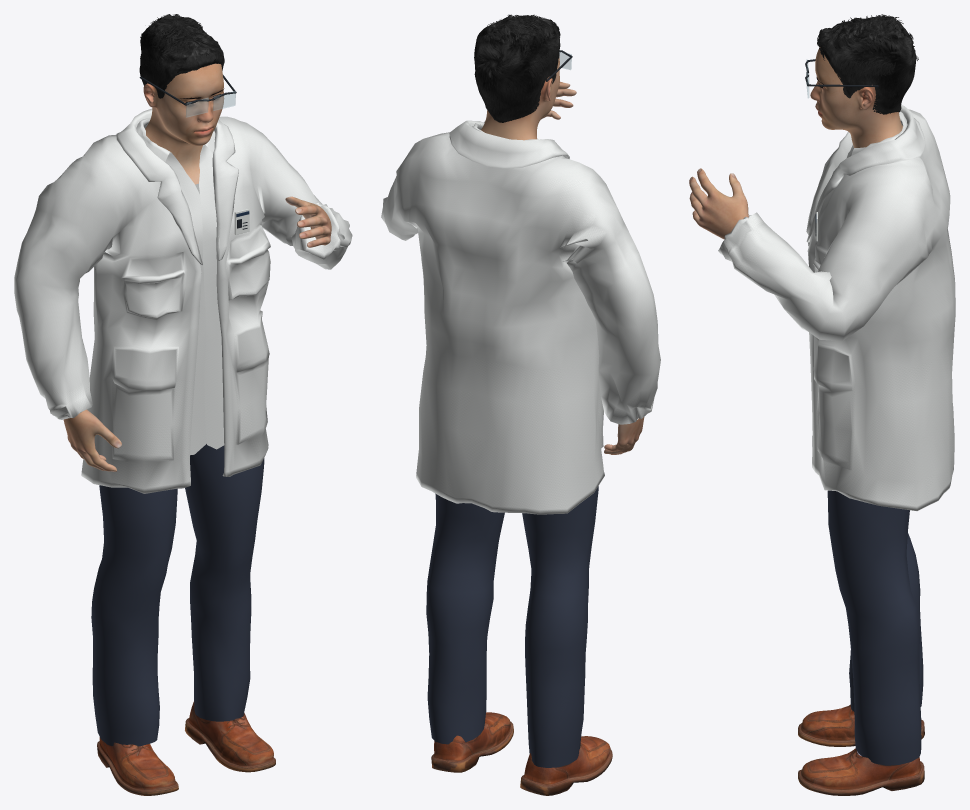
File: professional-lab-researcher.glb
3 renders of one model, left to right at view 1: azimuth 30°, elevation 25°; view 2: azimuth 150°, elevation 25°; view 3: azimuth 270°, elevation 25°, orthographic.
Visible parts, largest first — view 1: male_casualsuit05, Sam | anatomical body, shoes01, short01; view 2: male_casualsuit05, short01, shoes01, Sam | anatomical body; view 3: male_casualsuit05, short01, Sam | anatomical body, shoes01.
Boxes of the visible parts, <box> form: male_casualsuit05: <box>14,108,352,746</box>; Sam | anatomical body: <box>63,63,331,471</box>; shoes01: <box>97,701,275,795</box>; short01: <box>139,14,224,98</box>; male_casualsuit05: <box>381,120,660,767</box>; short01: <box>474,14,560,122</box>; shoes01: <box>431,712,612,795</box>; Sam | anatomical body: <box>481,56,644,454</box>; male_casualsuit05: <box>718,105,955,765</box>; short01: <box>817,14,918,114</box>; Sam | anatomical body: <box>689,47,902,239</box>; shoes01: <box>798,704,924,795</box>.
Size of the model in its own units: 0.7473 by 1.79 by 0.5835.
14 materials, 14 textured.
